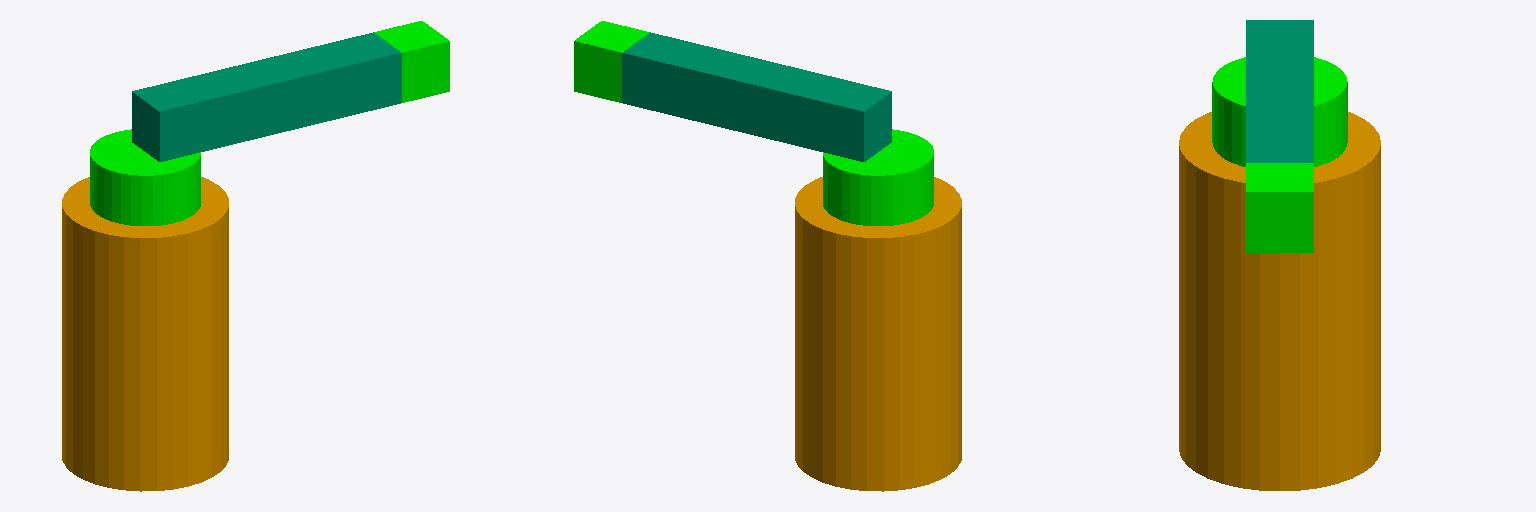
The robot description file, URDF, robot "pr_robot":
<?xml version="1.0" encoding="utf-8" ?>
<!-- =================================================================================== -->
<!-- |    This document was autogenerated by xacro from [local-path]/GitHub/IntroToRobotics/myrobotws/src/my_pr_robot/urdf/pr_robot_links_and_joints.xacro | -->
<!-- |    EDITING THIS FILE BY HAND IS NOT RECOMMENDED                                 | -->
<!-- =================================================================================== -->
<robot name="pr_robot">
    <link name="base_link">
        <visual>
            <origin rpy="0 0 0" xyz="0 0 2.5" />
            <geometry>
                <cylinder length="5" radius="1.5" />
            </geometry>
        </visual>
        <collision>
            <origin rpy="0 0 0" xyz="0 0 2.5" />
            <geometry>
                <cylinder length="5" radius="1.5" />
            </geometry>
        </collision>
        
<inertial>
            <mass value="0.1" />
            <inertia ixx="0.03" iyy="0.03" izz="0.03" ixy="0.0" ixz="0.0" iyz="0.0" />
        </inertial>

    </link>
    <joint name="joint1_base_link_to_link1" type="prismatic">
        <parent link="base_link" />
        <child link="link1" />
        <axis xyz="0 0 1" />
        <origin rpy="0 0 0" xyz="0 0 1" />
        <limit effort="1000.0" lower="0" upper="4" velocity="0.5" />
    </joint>
    <link name="link1">
        <visual>
            <origin rpy="0 0 0" xyz="0 0 2.5" />
            <geometry>
                <cylinder length="5" radius="1" />
            </geometry>
            <material name="green">
                <color rgba="0.0 1.0 0.0 1.0" />
            </material>
        </visual>
        <collision>
            <origin rpy="0 0 0" xyz="0 0 2.5" />
            <geometry>
                <cylinder length="5" radius="1" />
            </geometry>
        </collision>
        
<inertial>
            <mass value="0.1" />
            <inertia ixx="0.03" iyy="0.03" izz="0.03" ixy="0.0" ixz="0.0" iyz="0.0" />
        </inertial>

    </link>
    <joint name="joint2_link1_to_link2" type="revolute">
        <parent link="link1" />
        <child link="link2" />
        <axis xyz="0 0 1" />
        <origin rpy="0 0 0" xyz="0 0 0" />
        <limit effort="1000.0" lower="-3.14" upper="3.14" velocity="1" />
    </joint>
    <link name="link2">
        <visual>
            <origin rpy="0 0 0" xyz="2.5 0 5.5" />
            <geometry>
                <box size="5 1 1" />
            </geometry>
        </visual>
        <collision>
            <origin rpy="0 0 0" xyz="2.5 0 5.5" />
            <geometry>
                <box size="5 1 1" />
            </geometry>
        </collision>
        
<inertial>
            <mass value="0.1" />
            <inertia ixx="0.03" iyy="0.03" izz="0.03" ixy="0.0" ixz="0.0" iyz="0.0" />
        </inertial>

    </link>
    <joint name="joint3_link2_to_hand" type="fixed">
        <origin rpy="0 0 0" xyz="0 0 0" />
        <parent link="link2" />
        <child link="hand" />
    </joint>
    <link name="hand">
        <visual>
            <origin rpy="0 0 0" xyz="5.5 0 5.5" />
            <geometry>
                <box size="1 1 1" />
            </geometry>
            <material name="green">
                <color rgba="0.0 1.0 0.0 1.0" />
            </material>
        </visual>
        <collision>
            <origin rpy="0 0 0" xyz="5.5 0 5.5" />
            <geometry>
                <box size="1 1 1" />
            </geometry>
        </collision>
        
<inertial>
            <mass value="0.1" />
            <inertia ixx="0.03" iyy="0.03" izz="0.03" ixy="0.0" ixz="0.0" iyz="0.0" />
        </inertial>

    </link>
    
<transmission name="trans_joint1_base_link_to_link1">
        <type>transmission_interface/SimpleTransmission</type>
        <joint name="joint1_base_link_to_link1">
            <hardwareInterface>hardware_interface/EffortJointInterface</hardwareInterface>
        </joint>
        <actuator name="joint1_base_link_to_link1_motor">
            <hardwareInterface>hardware_interface/EffortJointInterface</hardwareInterface>
            <mechanicalReduction>1</mechanicalReduction>
        </actuator>
    </transmission>
    <transmission name="trans_joint2_link1_to_link2">
        <type>transmission_interface/SimpleTransmission</type>
        <joint name="joint2_link1_to_link2">
            <hardwareInterface>hardware_interface/EffortJointInterface</hardwareInterface>
        </joint>
        <actuator name="joint2_link1_to_link2_motor">
            <hardwareInterface>hardware_interface/EffortJointInterface</hardwareInterface>
            <mechanicalReduction>1</mechanicalReduction>
        </actuator>
    </transmission>
    <gazebo>
        <plugin name="gazebo_ros_control" filename="libgazebo_ros_control.so">
            <robotNamespace>/</robotNamespace>
        </plugin>
    </gazebo>
</robot>

--- What the picture shows (computed from the rendered views, not written in the file) ---
The picture shows the robot from 3 angles, left to right: view 1: azimuth 30°, elevation 25°; view 2: azimuth 150°, elevation 25°; view 3: azimuth 270°, elevation 25°; orthographic projection.
Model pr_robot with 4 links and 3 joints (1 revolute, 1 prismatic, 1 fixed), rooted at base_link, posed all joints at 0.
Visible links, largest first — view 1: base_link, link2, link1, hand; view 2: base_link, link2, link1, hand; view 3: base_link, link2, link1, hand.
Link boxes in pixels (left/top/right/bottom): base_link: left=62, top=177, right=228, bottom=491; link2: left=132, top=32, right=401, bottom=161; link1: left=90, top=129, right=200, bottom=225; hand: left=374, top=21, right=449, bottom=102; base_link: left=795, top=177, right=961, bottom=491; link2: left=622, top=32, right=891, bottom=161; link1: left=823, top=129, right=933, bottom=225; hand: left=574, top=21, right=649, bottom=102; base_link: left=1179, top=112, right=1380, bottom=490; link2: left=1246, top=20, right=1313, bottom=162; link1: left=1212, top=57, right=1347, bottom=166; hand: left=1246, top=163, right=1313, bottom=252.
Bounding box of the posed robot: 7.5 × 3 × 7 m (x, y, z).
Geometry: primitives only (box / cylinder / sphere), no mesh files.
